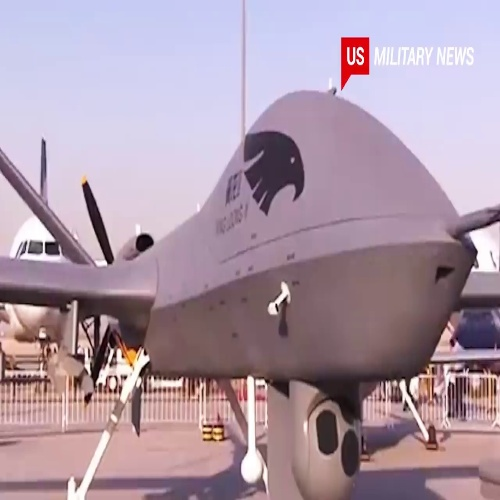uav68: (4, 88, 496, 498)
